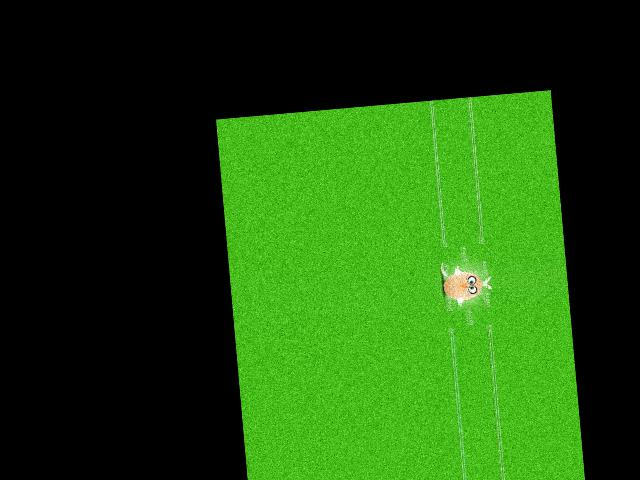egg: (441, 269, 483, 301)
